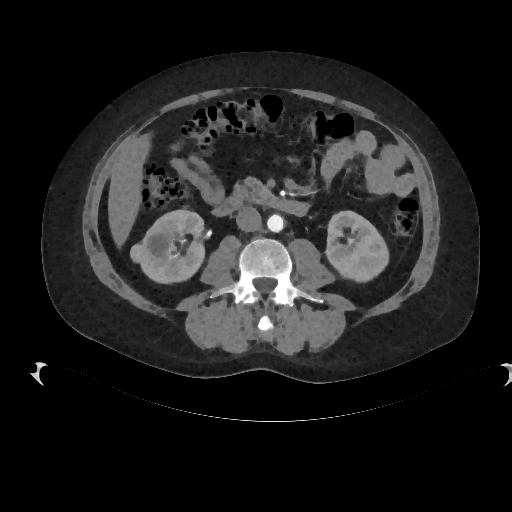Lesion: (129, 241, 145, 265)
